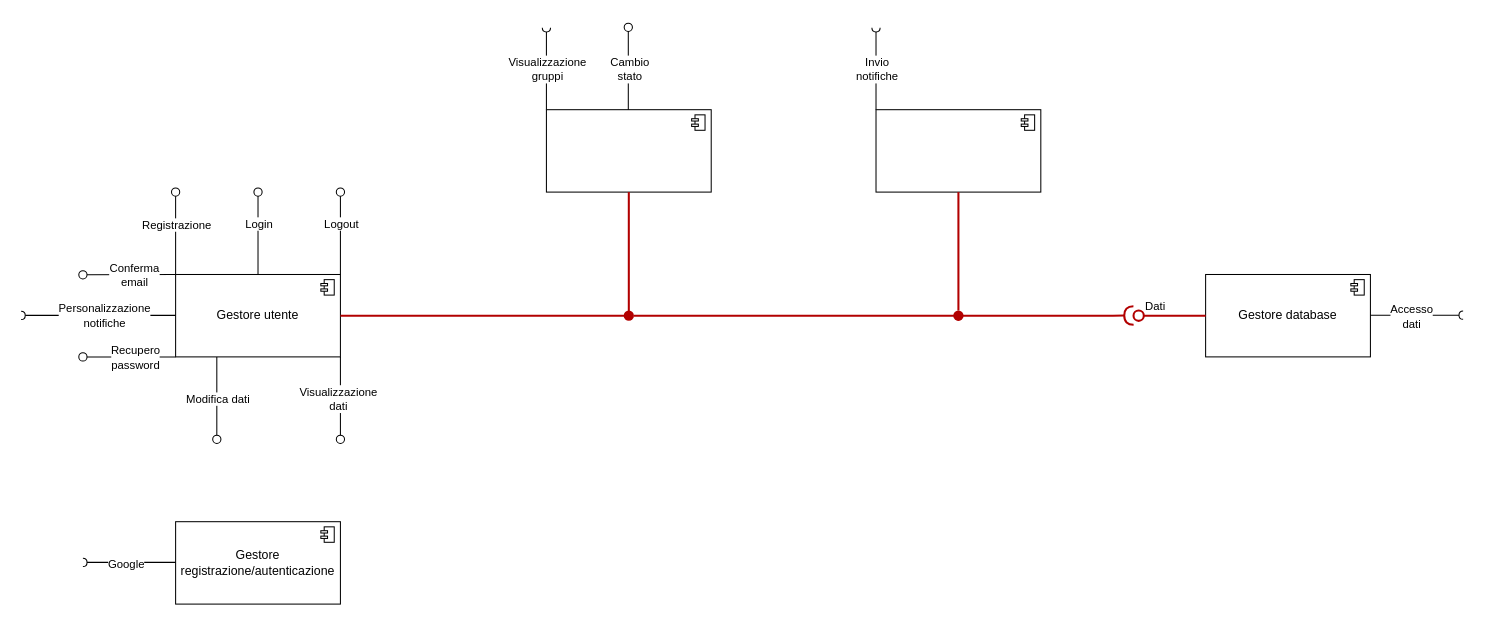
Image size: 1485x622. Some labels were removed from this diagram. The centre of each missing label's shape, as x and y in pixels:
Gestione gruppi: [628,150]
Gestore notifiche: [958,150]
